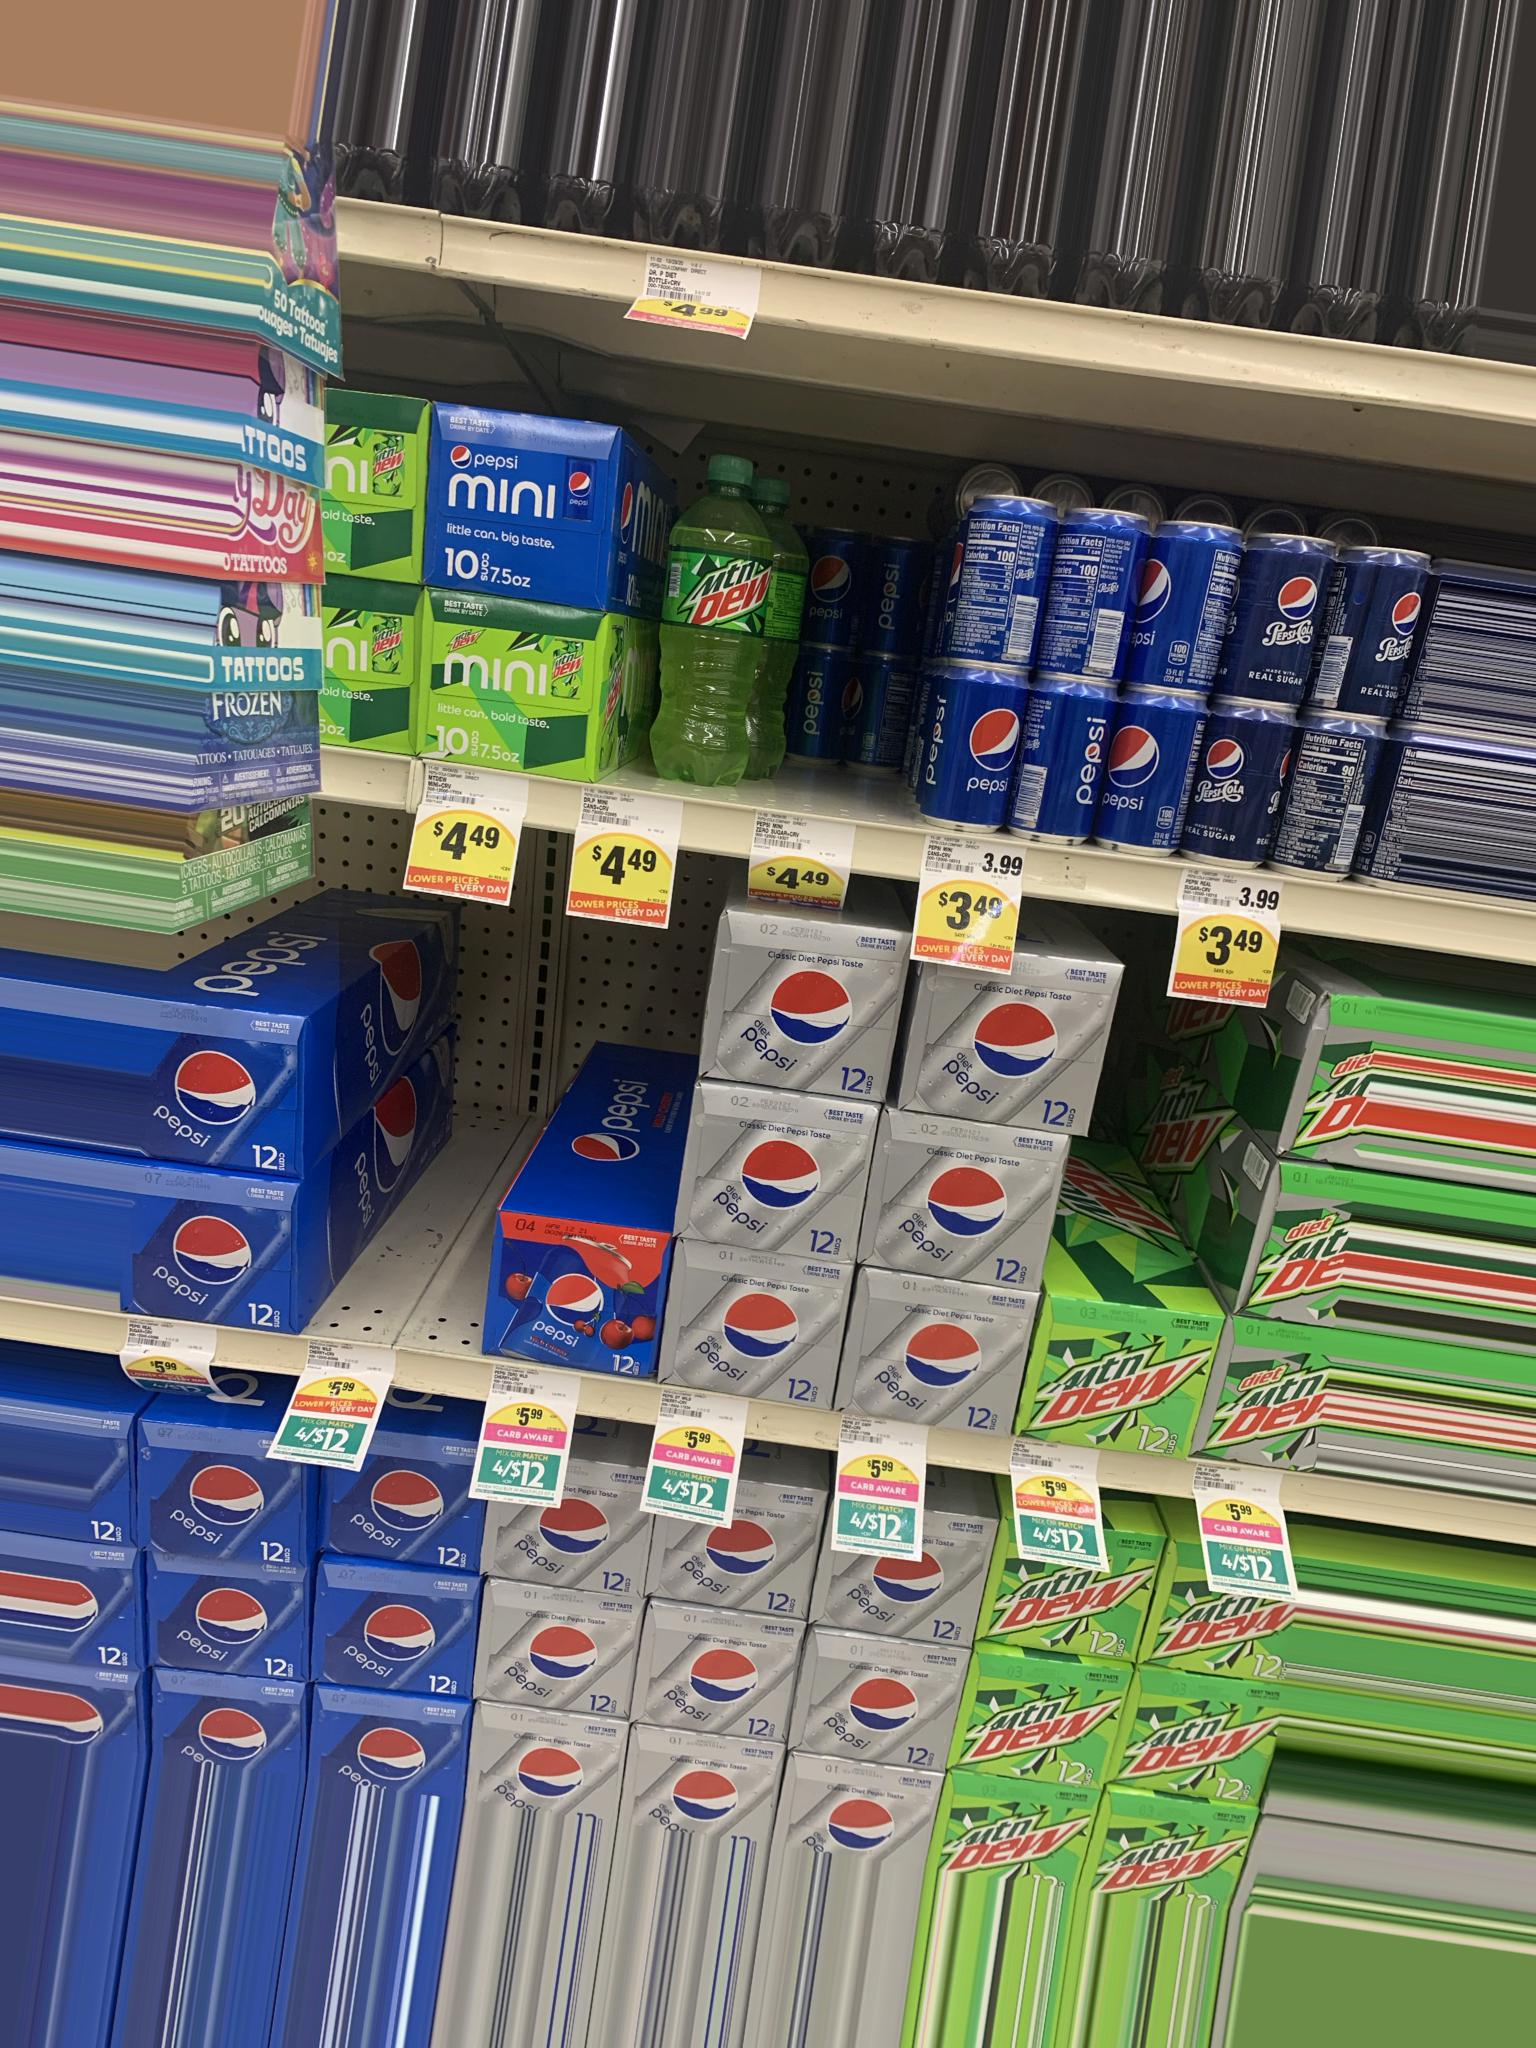box: (415, 411, 618, 611), (724, 921, 884, 1092), (499, 1234, 657, 1367), (931, 980, 1087, 1113), (887, 1143, 1041, 1272), (1054, 1313, 1191, 1455), (152, 1032, 294, 1168), (705, 1119, 852, 1242), (150, 1440, 281, 1572), (487, 1593, 620, 1716), (694, 1280, 831, 1398), (137, 1205, 294, 1306), (319, 1585, 458, 1692), (874, 1309, 999, 1426), (805, 1653, 941, 1759), (973, 1672, 1105, 1779), (649, 1630, 779, 1727), (168, 1588, 294, 1675), (653, 1530, 805, 1601), (824, 1579, 975, 1625), (490, 1522, 628, 1572)
can: (1334, 534, 1439, 724), (925, 648, 1021, 835), (1055, 497, 1141, 684), (1020, 660, 1112, 830), (960, 485, 1044, 671), (1118, 668, 1199, 851), (1212, 689, 1297, 847), (1154, 518, 1229, 692), (1238, 522, 1312, 693)
